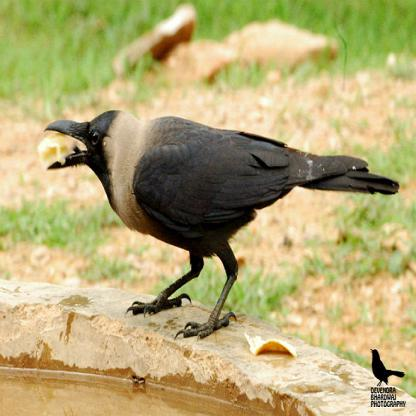Burung: (41, 110, 400, 337)
